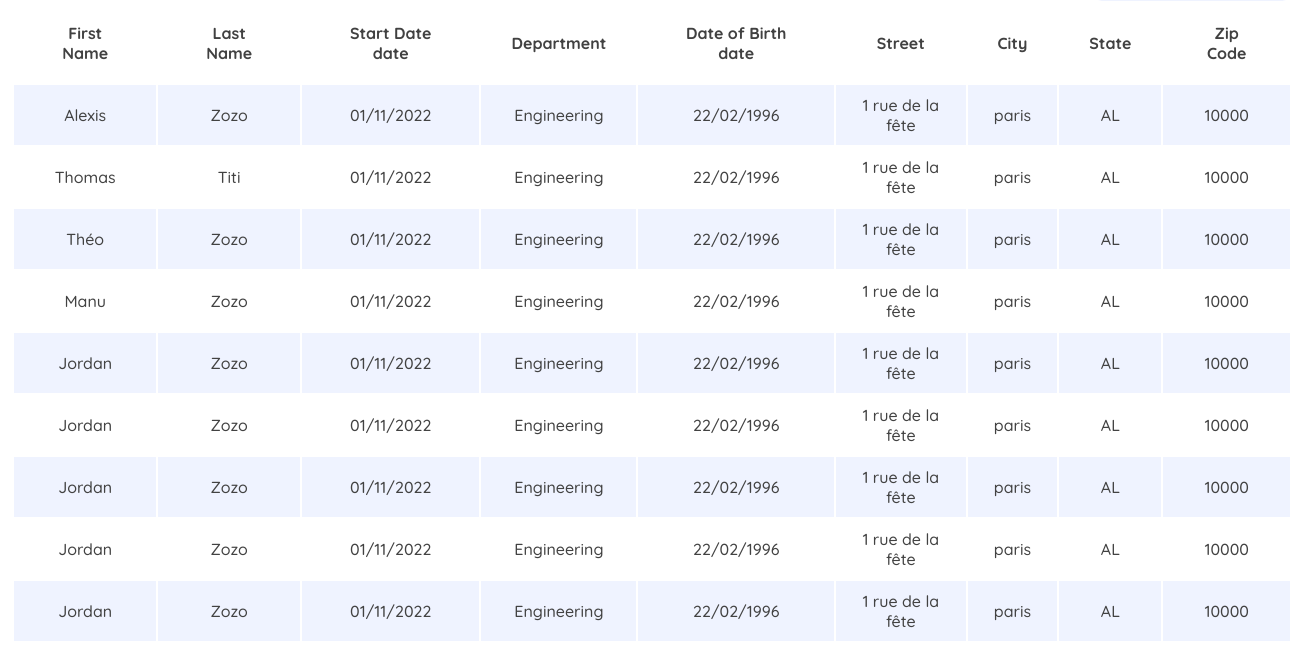
Test: Filter button date
Click the column heading with test id "thDate" showing "Start Date date" at (391, 43), box left=302, top=3, right=480, bottom=83
(page scrolled)
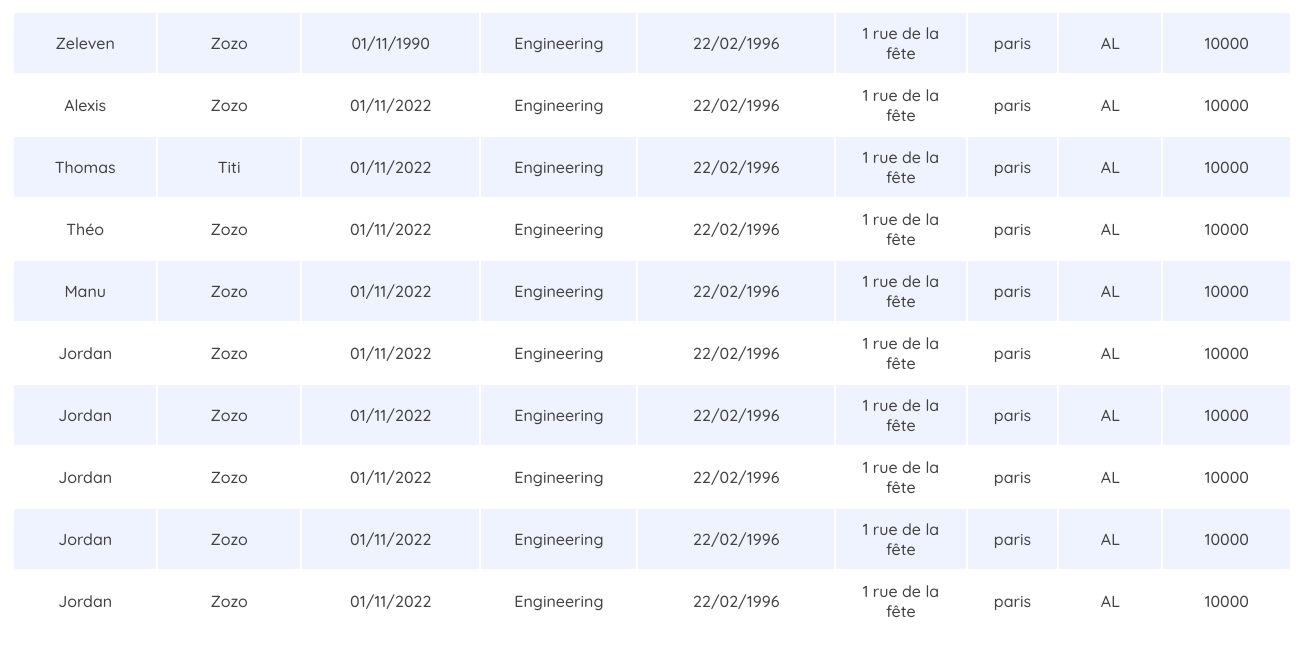
Expected: the element with test id "table" shows "Zeleven", left=56, top=33, right=115, bottom=53
